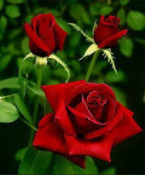RedRose: (34, 72, 143, 167), (23, 11, 71, 60), (88, 12, 126, 59)
